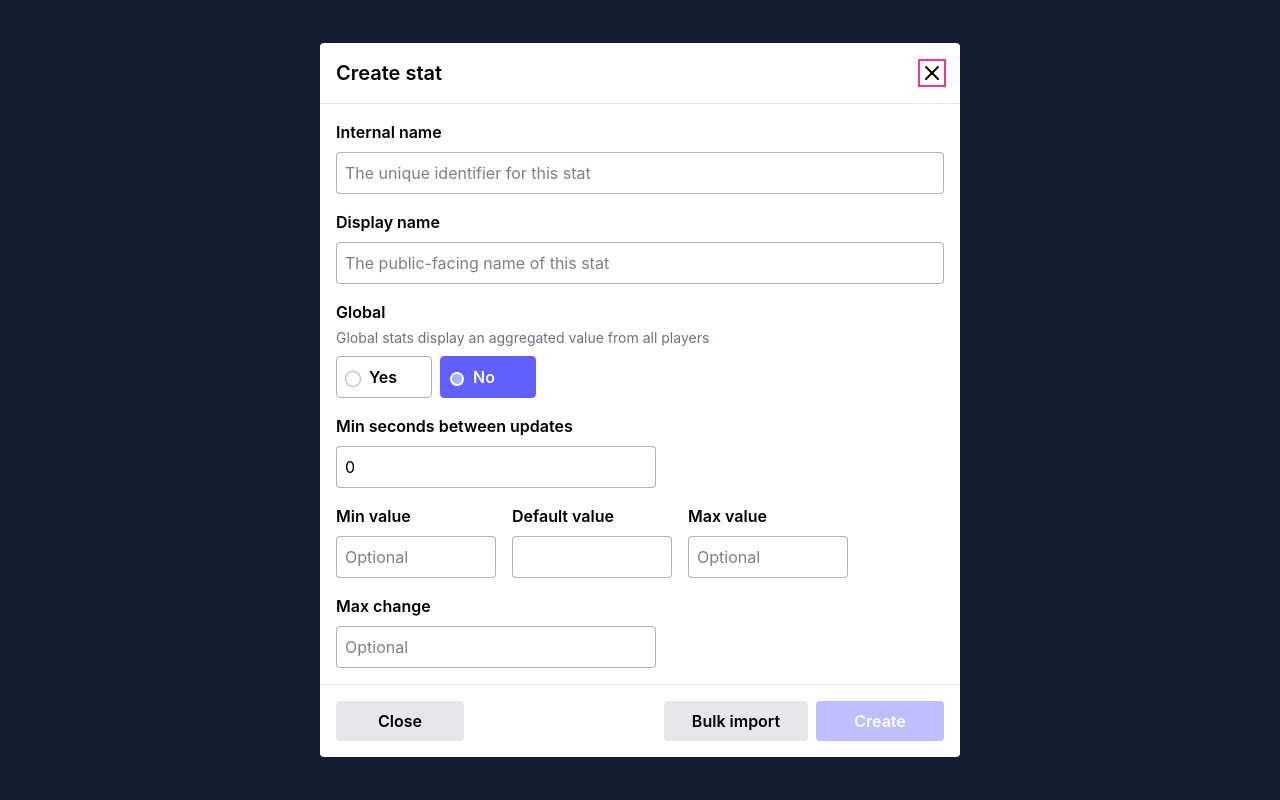
Test: <StatDetails /> › should display an error if the min value is more than the max value
In the number field labelled "Min value": (416, 557) left=336, top=536, right=496, bottom=578, type "60"
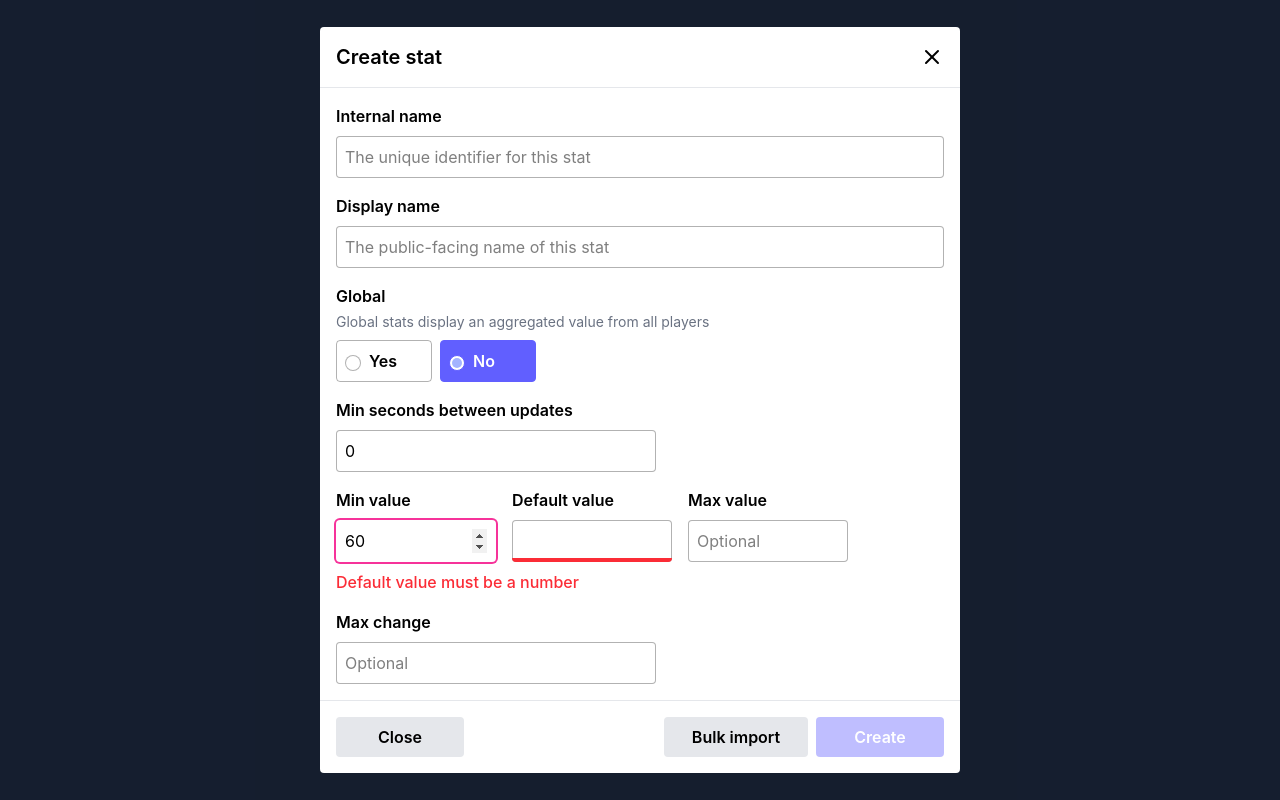
In the number field labelled "Default value": (592, 541) left=512, top=520, right=672, bottom=562, type "60"
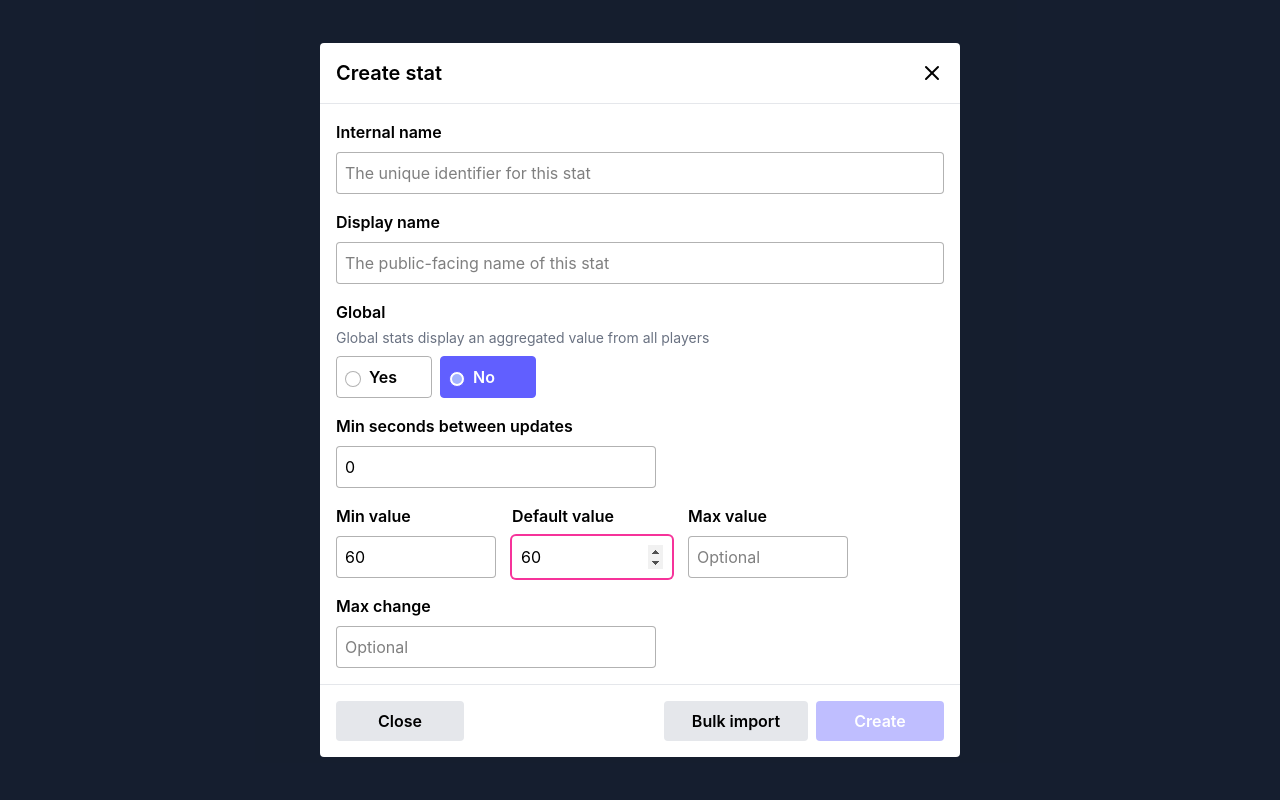
In the number field labelled "Max value": (768, 557) left=688, top=536, right=848, bottom=578, type "52"
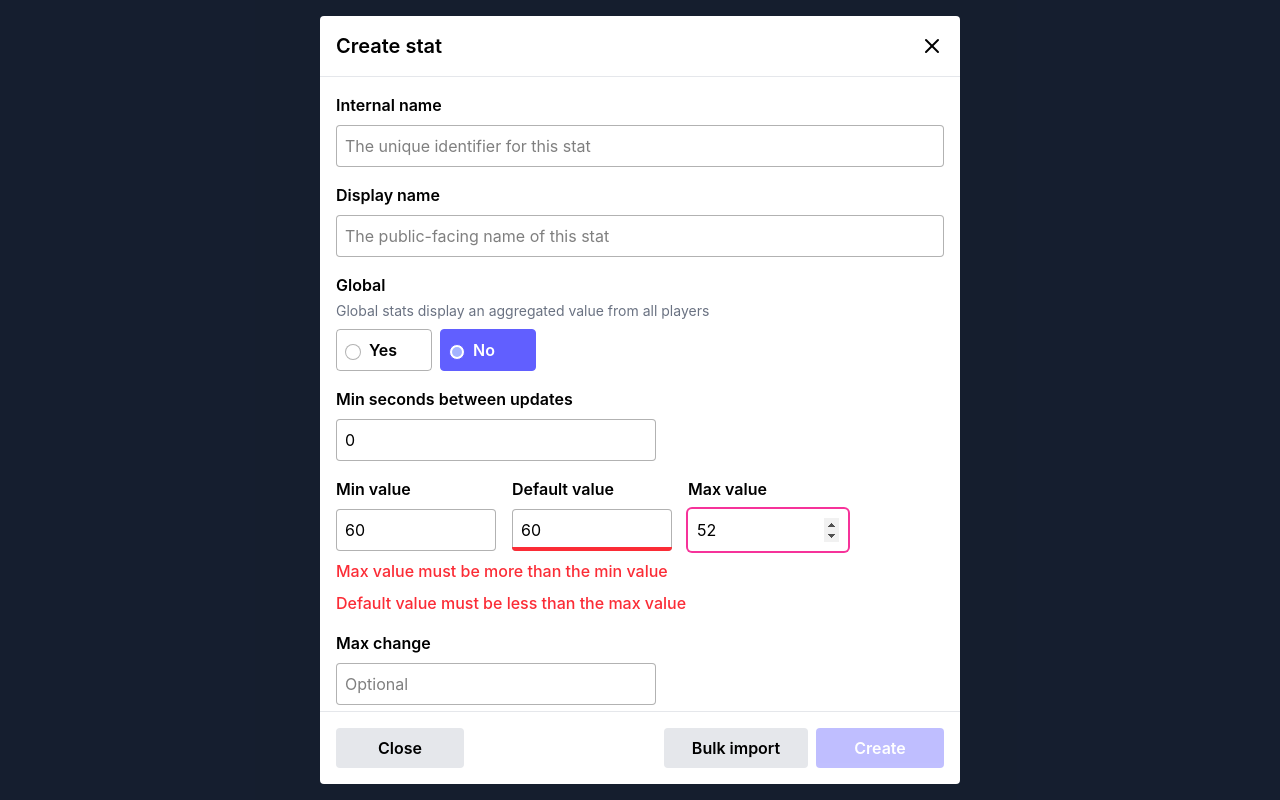
Expected: the text "Max value must be more than the min value" is shown, left=336, top=561, right=668, bottom=581
